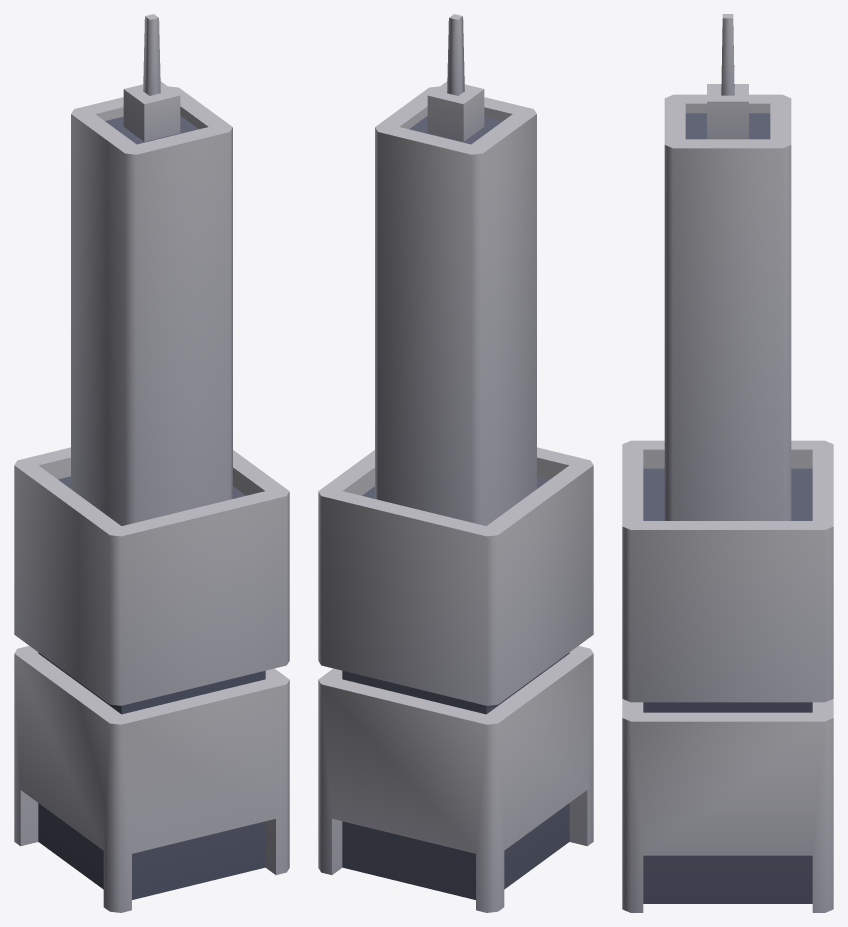
Rendered from low-detail-building-b.glb.
The picture shows the model from 3 angles, left to right: view 1: azimuth 30°, elevation 25°; view 2: azimuth 150°, elevation 25°; view 3: azimuth 270°, elevation 25°; orthographic projection.
Visible parts, largest first — view 1: low-detail-building-b; view 2: low-detail-building-b; view 3: low-detail-building-b.
Boxes of the visible parts, x1,y1,x2,y2 form: low-detail-building-b: (14, 14, 289, 912); low-detail-building-b: (318, 14, 593, 912); low-detail-building-b: (622, 14, 833, 912).
Bounding box in the file's own units: 0.5 × 2.23 × 0.5.
